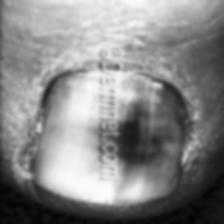Toxin: (117, 82, 175, 198)
